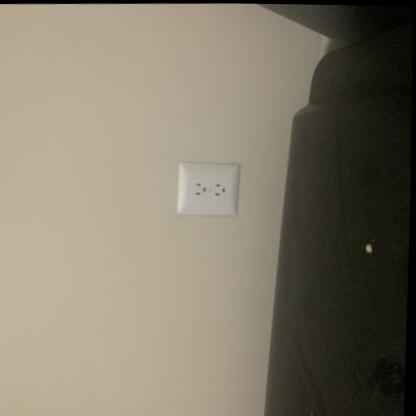OUTLET: (174, 162, 237, 217)
